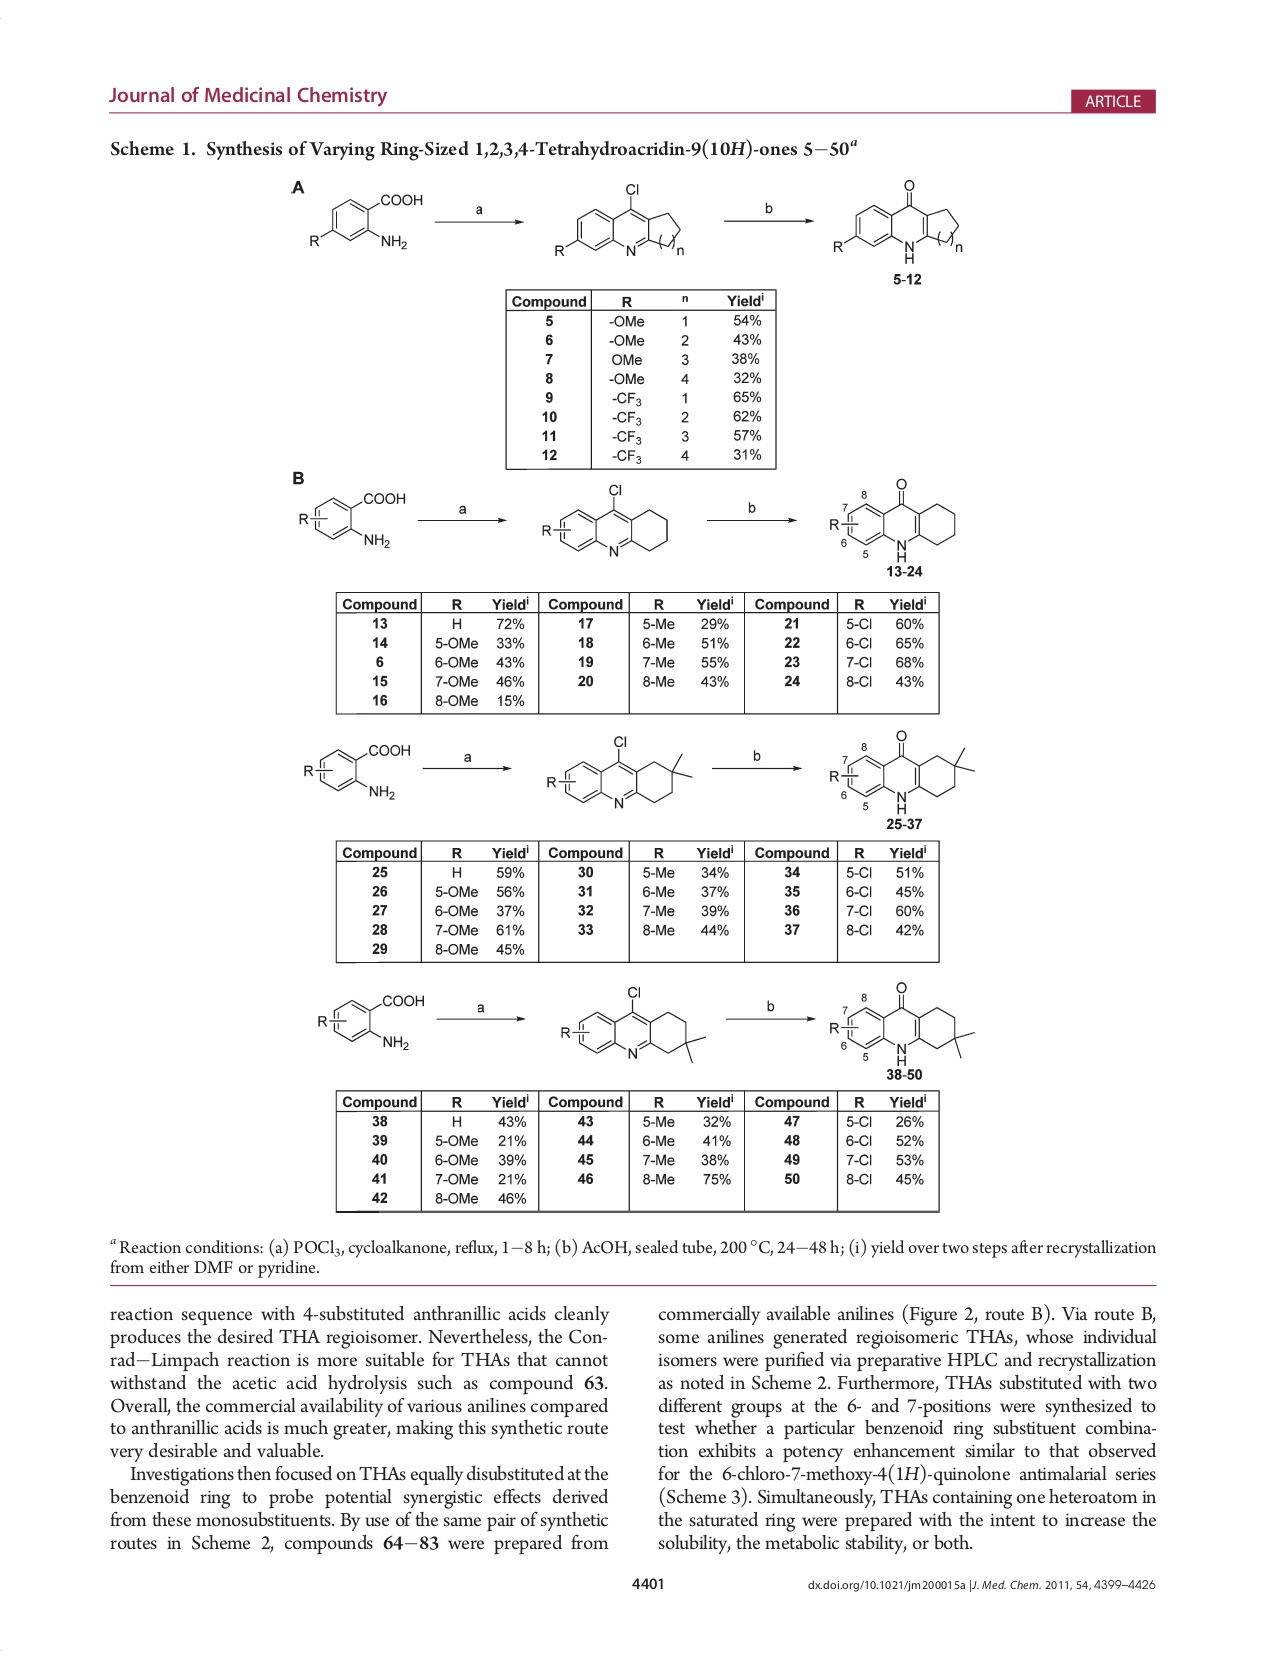exist_molecular: (827, 979, 977, 1071), (827, 726, 977, 817), (557, 981, 707, 1067), (540, 730, 694, 813), (828, 473, 959, 563), (832, 178, 965, 263), (553, 180, 686, 261), (541, 479, 672, 560), (309, 987, 428, 1055), (298, 734, 414, 801), (305, 192, 424, 253), (294, 489, 408, 549)
